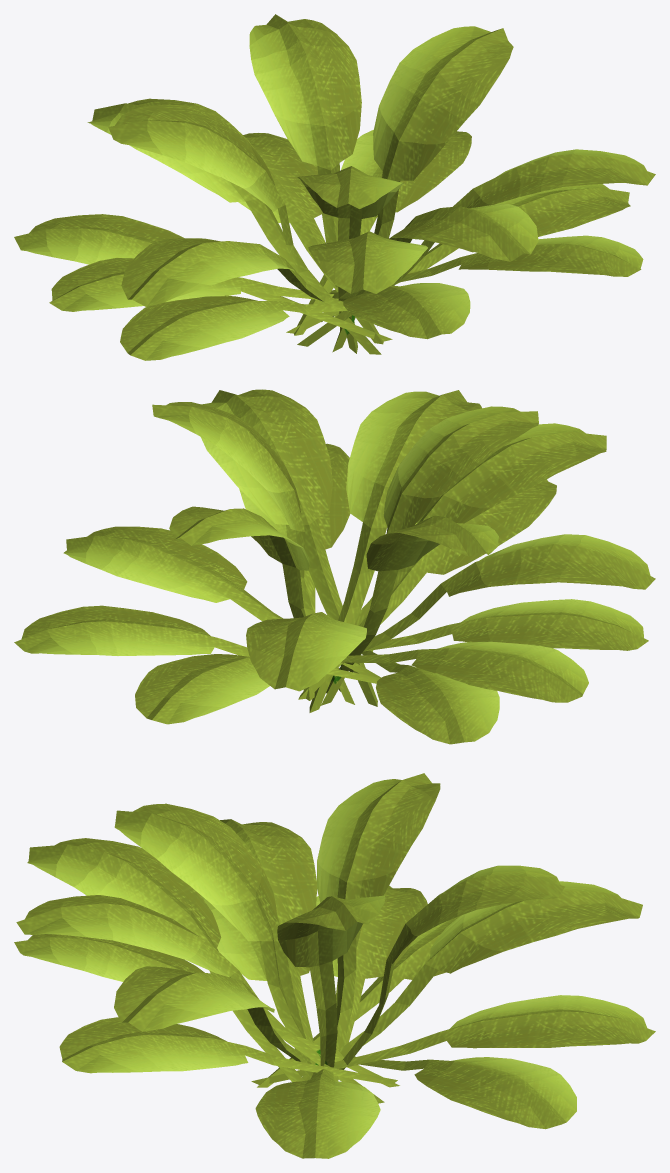
File: WaterBush.FBX
3 views of the same model, one above another, from view 1: azimuth 30°, elevation 25°; view 2: azimuth 150°, elevation 25°; view 3: azimuth 270°, elevation 25° (orthographic). The views are drawn at different scales.
Visible parts, largest first — view 1: WaterBush; view 2: WaterBush; view 3: WaterBush.
Boxes of the visible parts, bbox=[...] form: WaterBush: bbox=[14, 14, 655, 360]; WaterBush: bbox=[14, 389, 655, 744]; WaterBush: bbox=[14, 773, 655, 1158].
Bounding box in the file's own units: 5.97 × 5.82 × 2.79.
